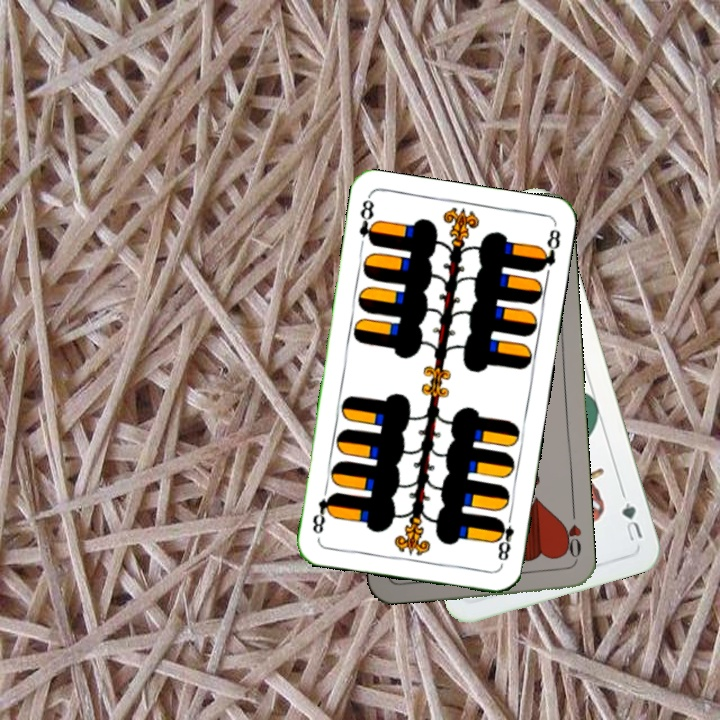E8: (491, 509, 517, 568), (355, 194, 380, 248)
GU: (617, 498, 646, 545)
HO: (557, 506, 584, 566)
